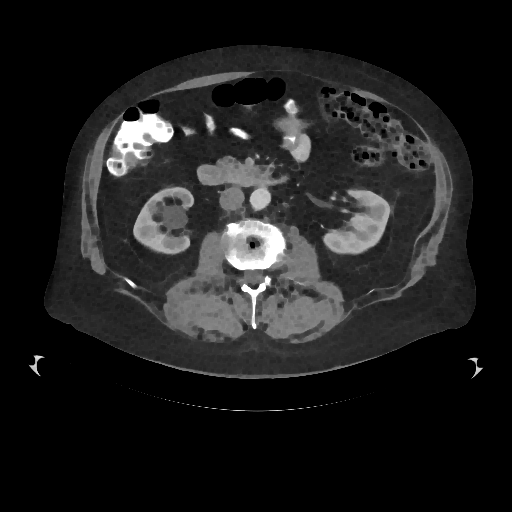Lesion: (158, 200, 188, 232)
